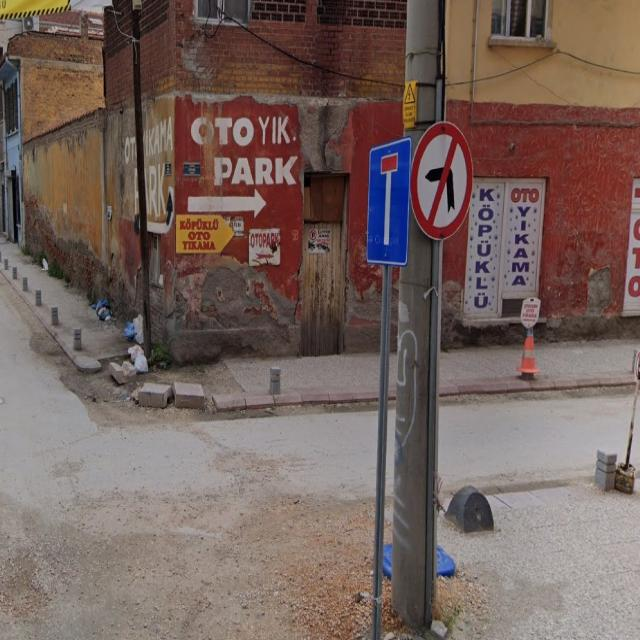soladonulmez: (409, 121, 473, 241)
